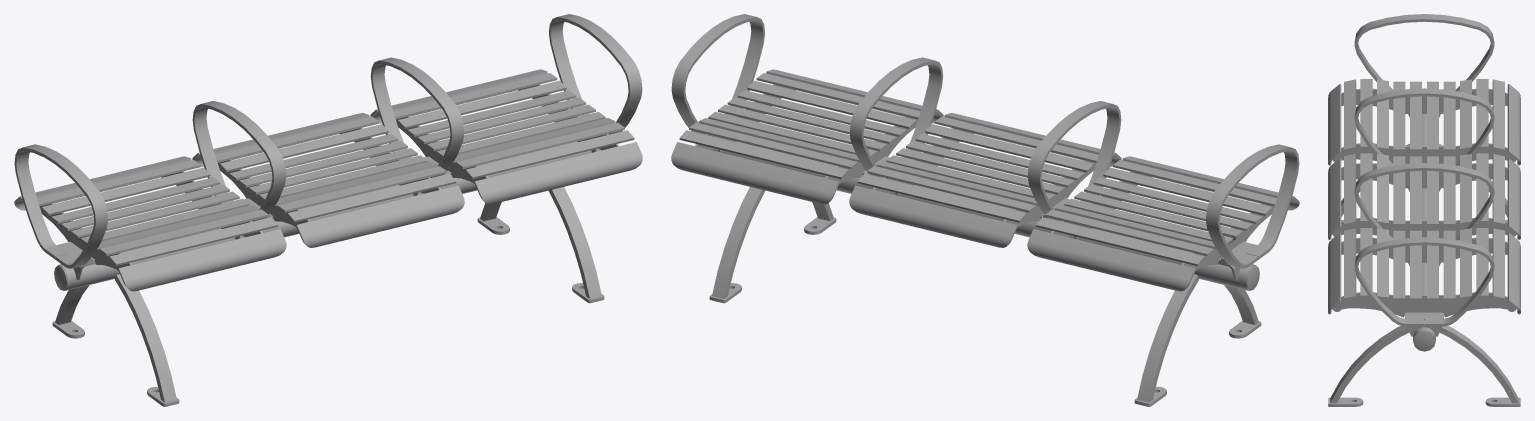
3 renders of one model, left to right at view 1: azimuth 30°, elevation 25°; view 2: azimuth 150°, elevation 25°; view 3: azimuth 270°, elevation 25°, orthographic. The views are drawn at different scales.
Parts seen in each view (by area): view 1: mesh18_mesh18-geometry, mesh1_mesh1-geometry, mesh19_mesh19-geometry, mesh10_mesh10-geometry, mesh17_mesh17-geometry, mesh9_mesh9-geometry, mesh12_mesh12-geometry, mesh8_mesh8-geometry, mesh11_mesh11-geometry, mesh15_mesh15-geometry, mesh16_mesh16-geometry, mesh54_mesh54-geometry (+7 smaller); view 2: mesh13_mesh13-geometry, mesh1_mesh1-geometry, mesh14_mesh14-geometry, mesh16_mesh16-geometry, mesh11_mesh11-geometry, mesh15_mesh15-geometry, mesh8_mesh8-geometry, mesh12_mesh12-geometry, mesh17_mesh17-geometry, mesh9_mesh9-geometry, mesh10_mesh10-geometry, mesh54_mesh54-geometry (+7 smaller); view 3: mesh1_mesh1-geometry, mesh6_mesh6-geometry, mesh13_mesh13-geometry, mesh18_mesh18-geometry, mesh14_mesh14-geometry, mesh19_mesh19-geometry, mesh9_mesh9-geometry, mesh15_mesh15-geometry, mesh8_mesh8-geometry, mesh12_mesh12-geometry, mesh10_mesh10-geometry, mesh16_mesh16-geometry (+11 smaller).
Boxes of the visible parts, x1=… form: mesh18_mesh18-geometry: x1=118, y1=142, x2=642, y2=291; mesh1_mesh1-geometry: x1=14, y1=14, x2=642, y2=268; mesh19_mesh19-geometry: x1=109, y1=130, x2=634, y2=266; mesh10_mesh10-geometry: x1=41, y1=80, x2=566, y2=215; mesh17_mesh17-geometry: x1=99, y1=122, x2=624, y2=255; mesh9_mesh9-geometry: x1=51, y1=90, x2=576, y2=223; mesh12_mesh12-geometry: x1=61, y1=97, x2=586, y2=230; mesh8_mesh8-geometry: x1=70, y1=104, x2=595, y2=237; mesh11_mesh11-geometry: x1=37, y1=73, x2=557, y2=206; mesh15_mesh15-geometry: x1=80, y1=112, x2=605, y2=244; mesh16_mesh16-geometry: x1=97, y1=118, x2=615, y2=249; mesh54_mesh54-geometry: x1=58, y1=141, x2=601, y2=290; mesh13_mesh13-geometry: x1=671, y1=142, x2=1195, y2=291; mesh1_mesh1-geometry: x1=671, y1=14, x2=1299, y2=268; mesh14_mesh14-geometry: x1=679, y1=130, x2=1204, y2=266; mesh16_mesh16-geometry: x1=747, y1=80, x2=1272, y2=215; mesh11_mesh11-geometry: x1=689, y1=122, x2=1214, y2=255; mesh15_mesh15-geometry: x1=737, y1=90, x2=1262, y2=223; mesh8_mesh8-geometry: x1=727, y1=97, x2=1252, y2=230; mesh12_mesh12-geometry: x1=718, y1=104, x2=1243, y2=237; mesh17_mesh17-geometry: x1=756, y1=73, x2=1276, y2=206; mesh9_mesh9-geometry: x1=708, y1=112, x2=1233, y2=244; mesh10_mesh10-geometry: x1=698, y1=118, x2=1216, y2=249; mesh54_mesh54-geometry: x1=712, y1=141, x2=1255, y2=290; mesh1_mesh1-geometry: x1=1354, y1=14, x2=1494, y2=326; mesh6_mesh6-geometry: x1=1332, y1=143, x2=1516, y2=317; mesh13_mesh13-geometry: x1=1507, y1=84, x2=1520, y2=314; mesh18_mesh18-geometry: x1=1328, y1=84, x2=1341, y2=314; mesh14_mesh14-geometry: x1=1492, y1=79, x2=1504, y2=299; mesh19_mesh19-geometry: x1=1344, y1=79, x2=1356, y2=299; mesh9_mesh9-geometry: x1=1443, y1=81, x2=1455, y2=300; mesh15_mesh15-geometry: x1=1393, y1=81, x2=1405, y2=300; mesh8_mesh8-geometry: x1=1410, y1=81, x2=1421, y2=300; mesh12_mesh12-geometry: x1=1427, y1=81, x2=1438, y2=300; mesh10_mesh10-geometry: x1=1460, y1=79, x2=1471, y2=299; mesh16_mesh16-geometry: x1=1377, y1=79, x2=1388, y2=299.
Size of the model in its own units: 0.8866 by 0.3377 by 0.3161.
